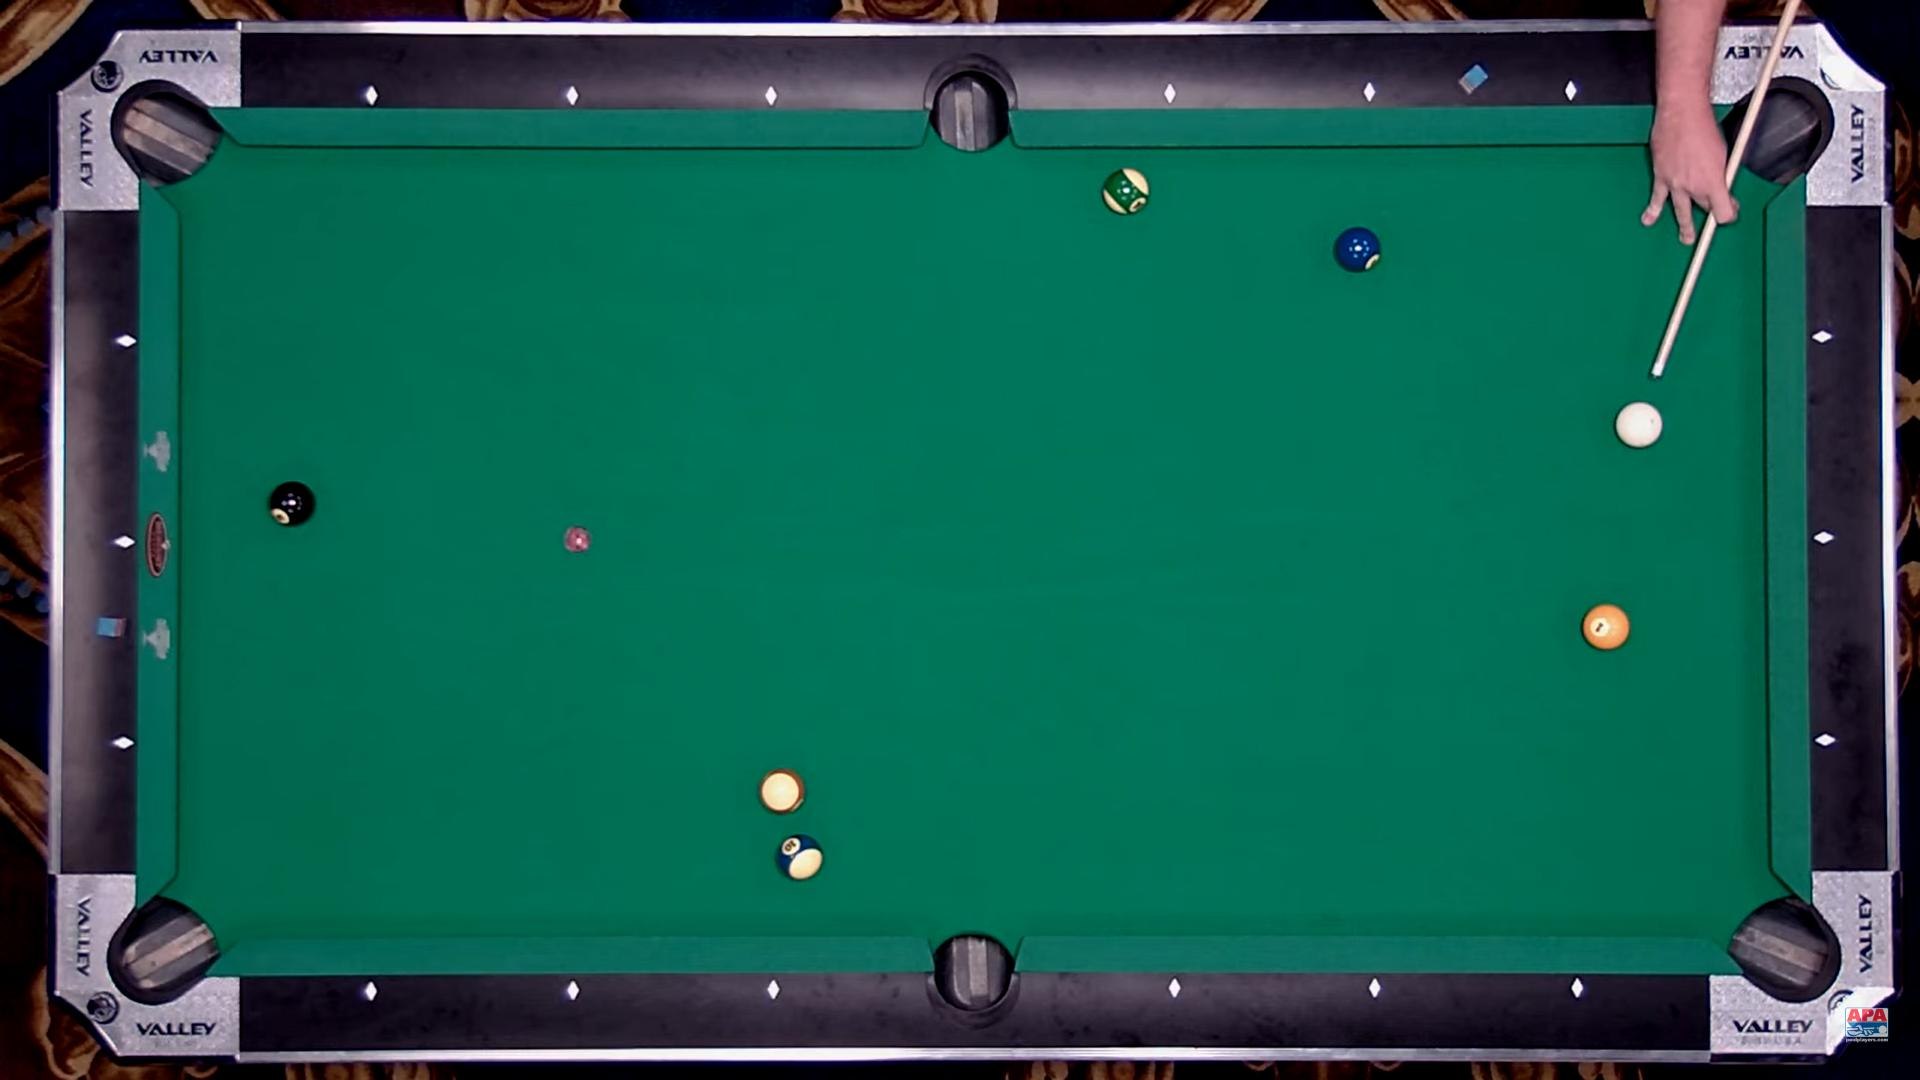Black: (269, 483, 316, 526)
Cue: (1615, 401, 1663, 447)
Dot: (564, 88, 579, 103), (1815, 330, 1829, 344), (1817, 533, 1832, 547), (1367, 981, 1382, 996), (116, 737, 129, 752), (120, 335, 133, 349), (766, 88, 779, 103), (1163, 86, 1176, 100), (1362, 86, 1377, 99), (1564, 84, 1578, 98), (1571, 981, 1584, 996), (1167, 981, 1180, 996), (766, 982, 781, 996), (364, 984, 377, 998), (117, 535, 131, 549), (365, 88, 378, 102), (1818, 735, 1832, 748), (566, 985, 579, 998)
Solid: (1581, 603, 1630, 649), (1333, 227, 1382, 273)
Striped: (775, 833, 825, 880), (1102, 167, 1149, 216), (760, 769, 806, 815)
